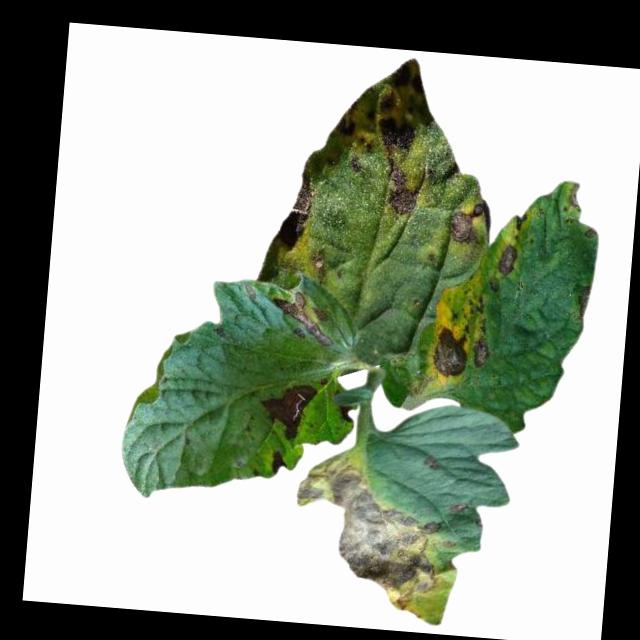Early_blight: (286, 460, 448, 616), (332, 51, 440, 160), (256, 378, 321, 446), (270, 291, 337, 349), (276, 165, 319, 254), (429, 319, 474, 383), (383, 162, 423, 221), (445, 199, 490, 251), (496, 242, 522, 280), (308, 246, 331, 284), (472, 337, 493, 372), (573, 285, 590, 323), (268, 450, 288, 477), (569, 180, 584, 216), (421, 453, 443, 469), (340, 405, 356, 426), (514, 213, 530, 233), (448, 500, 469, 515)
